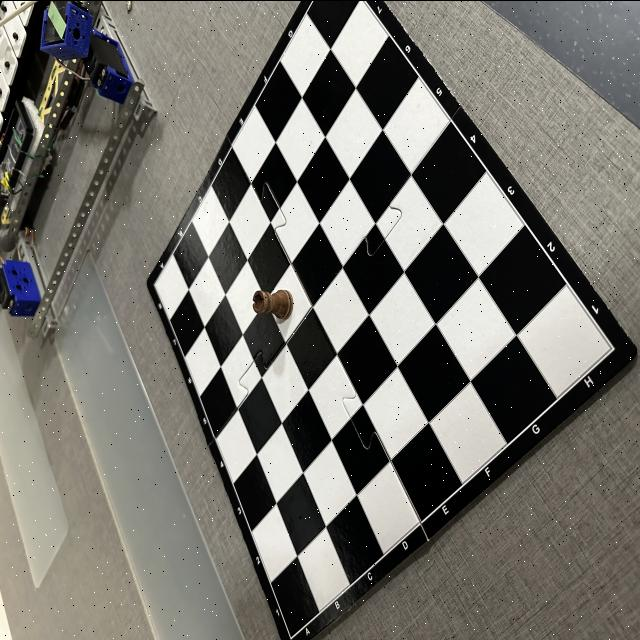Black-Rook: (252, 288, 294, 319)
